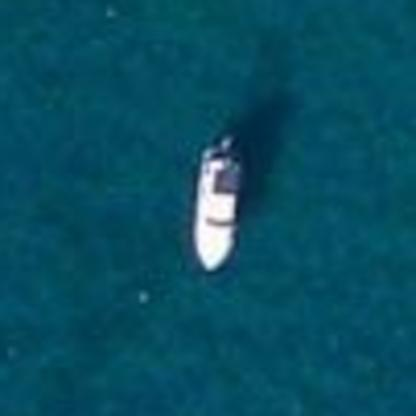ship: (177, 126, 254, 285)
